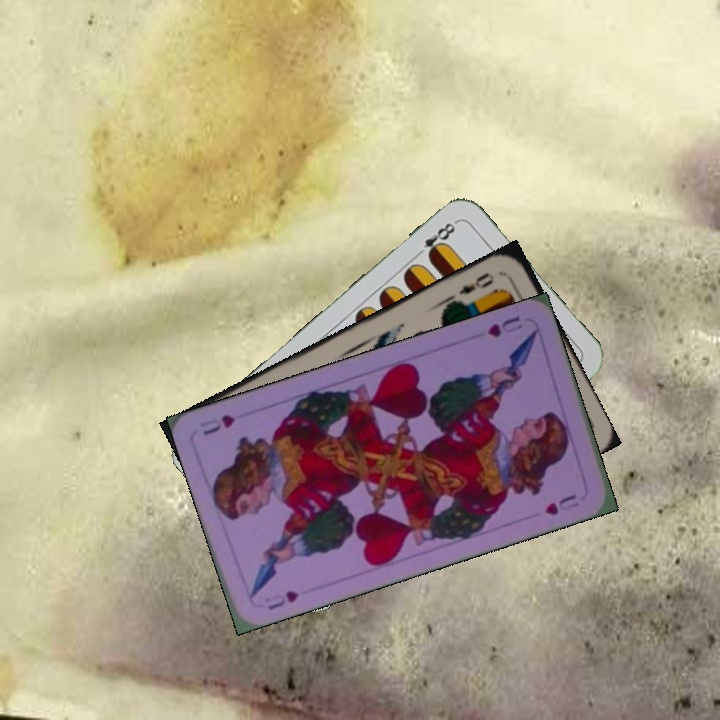E8: (411, 217, 460, 262)
EO: (455, 268, 497, 298)
HU: (483, 311, 525, 340), (263, 586, 302, 613)
